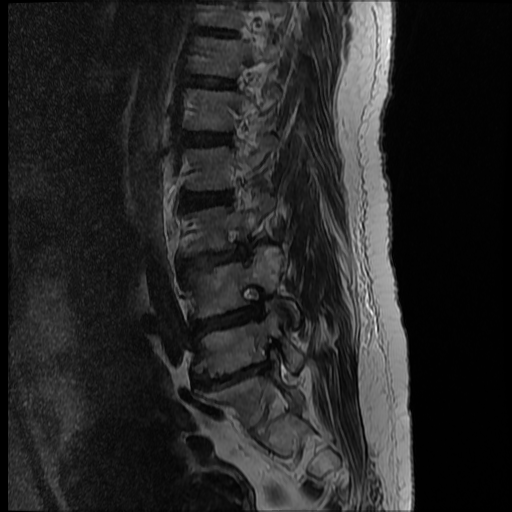RFS3: (234, 272, 277, 331)
